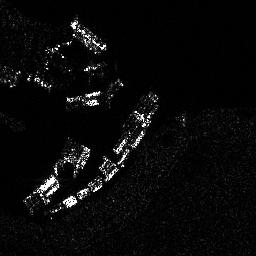ship: (68, 20, 109, 53)
